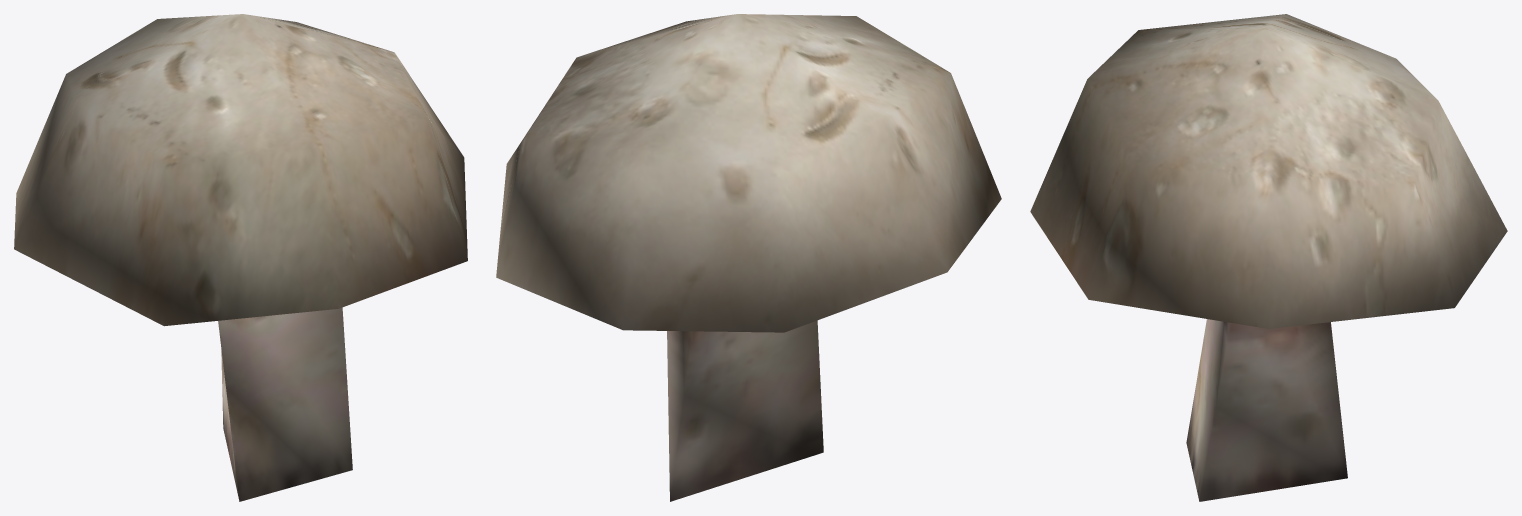
The model's file is mushroom_07_a.fbx.
The picture shows the model from 3 angles, left to right: view 1: azimuth 30°, elevation 25°; view 2: azimuth 150°, elevation 25°; view 3: azimuth 270°, elevation 25°; orthographic projection. The views are drawn at different scales.
Visible parts, largest first — view 1: mushroom_07_a; view 2: mushroom_07_a; view 3: mushroom_07_a.
Part boxes in pixels (x1,y1,x2,y2): mushroom_07_a: (14,14,467,501); mushroom_07_a: (496,14,1001,501); mushroom_07_a: (1030,14,1507,501).
Size of the model in its own units: 0.3814 by 0.3733 by 0.3691.
